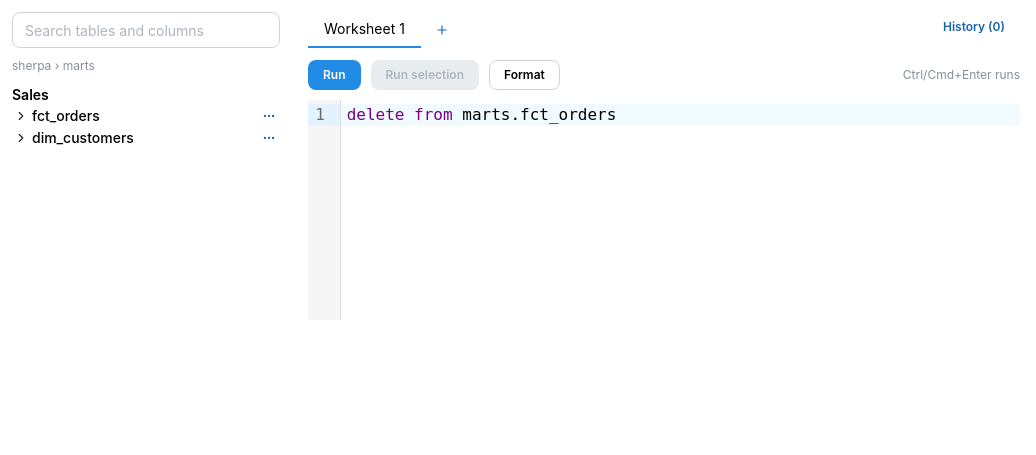
Test: Explorer results › guard rejection shows the reason without the rule's code, and what is allowed
Step 1. Click the button "Run" → (334, 75), box [308,60,360,90]
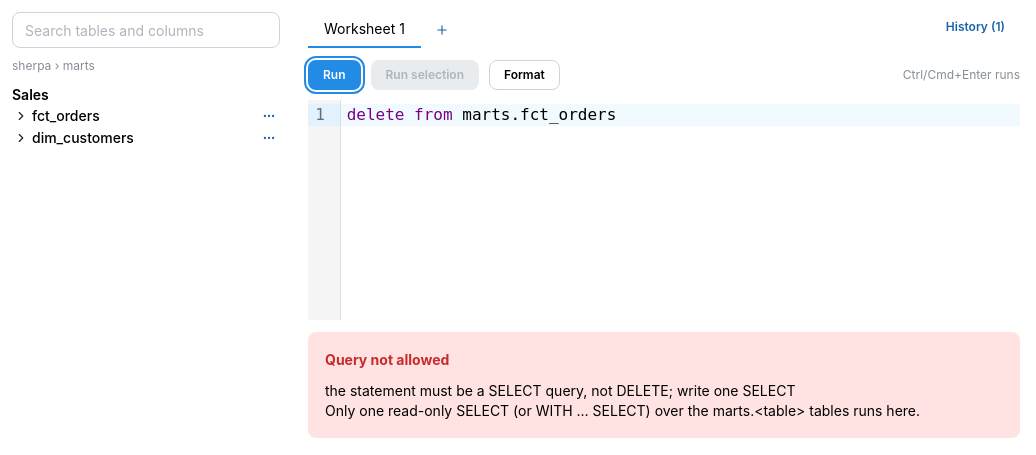
Check: the text "Query not allowed" does not show "[guard:", box [308,332,1020,438]
Check: the text "Query not allowed" shows "the statement must be a SELECT query, not DELETE; write one SELECT", box [325,382,796,399]
Check: the text "Query not allowed" shows "Only one read-only SELECT (or WITH … SELECT) over the marts.<table> tables runs here.", box [325,402,920,419]
